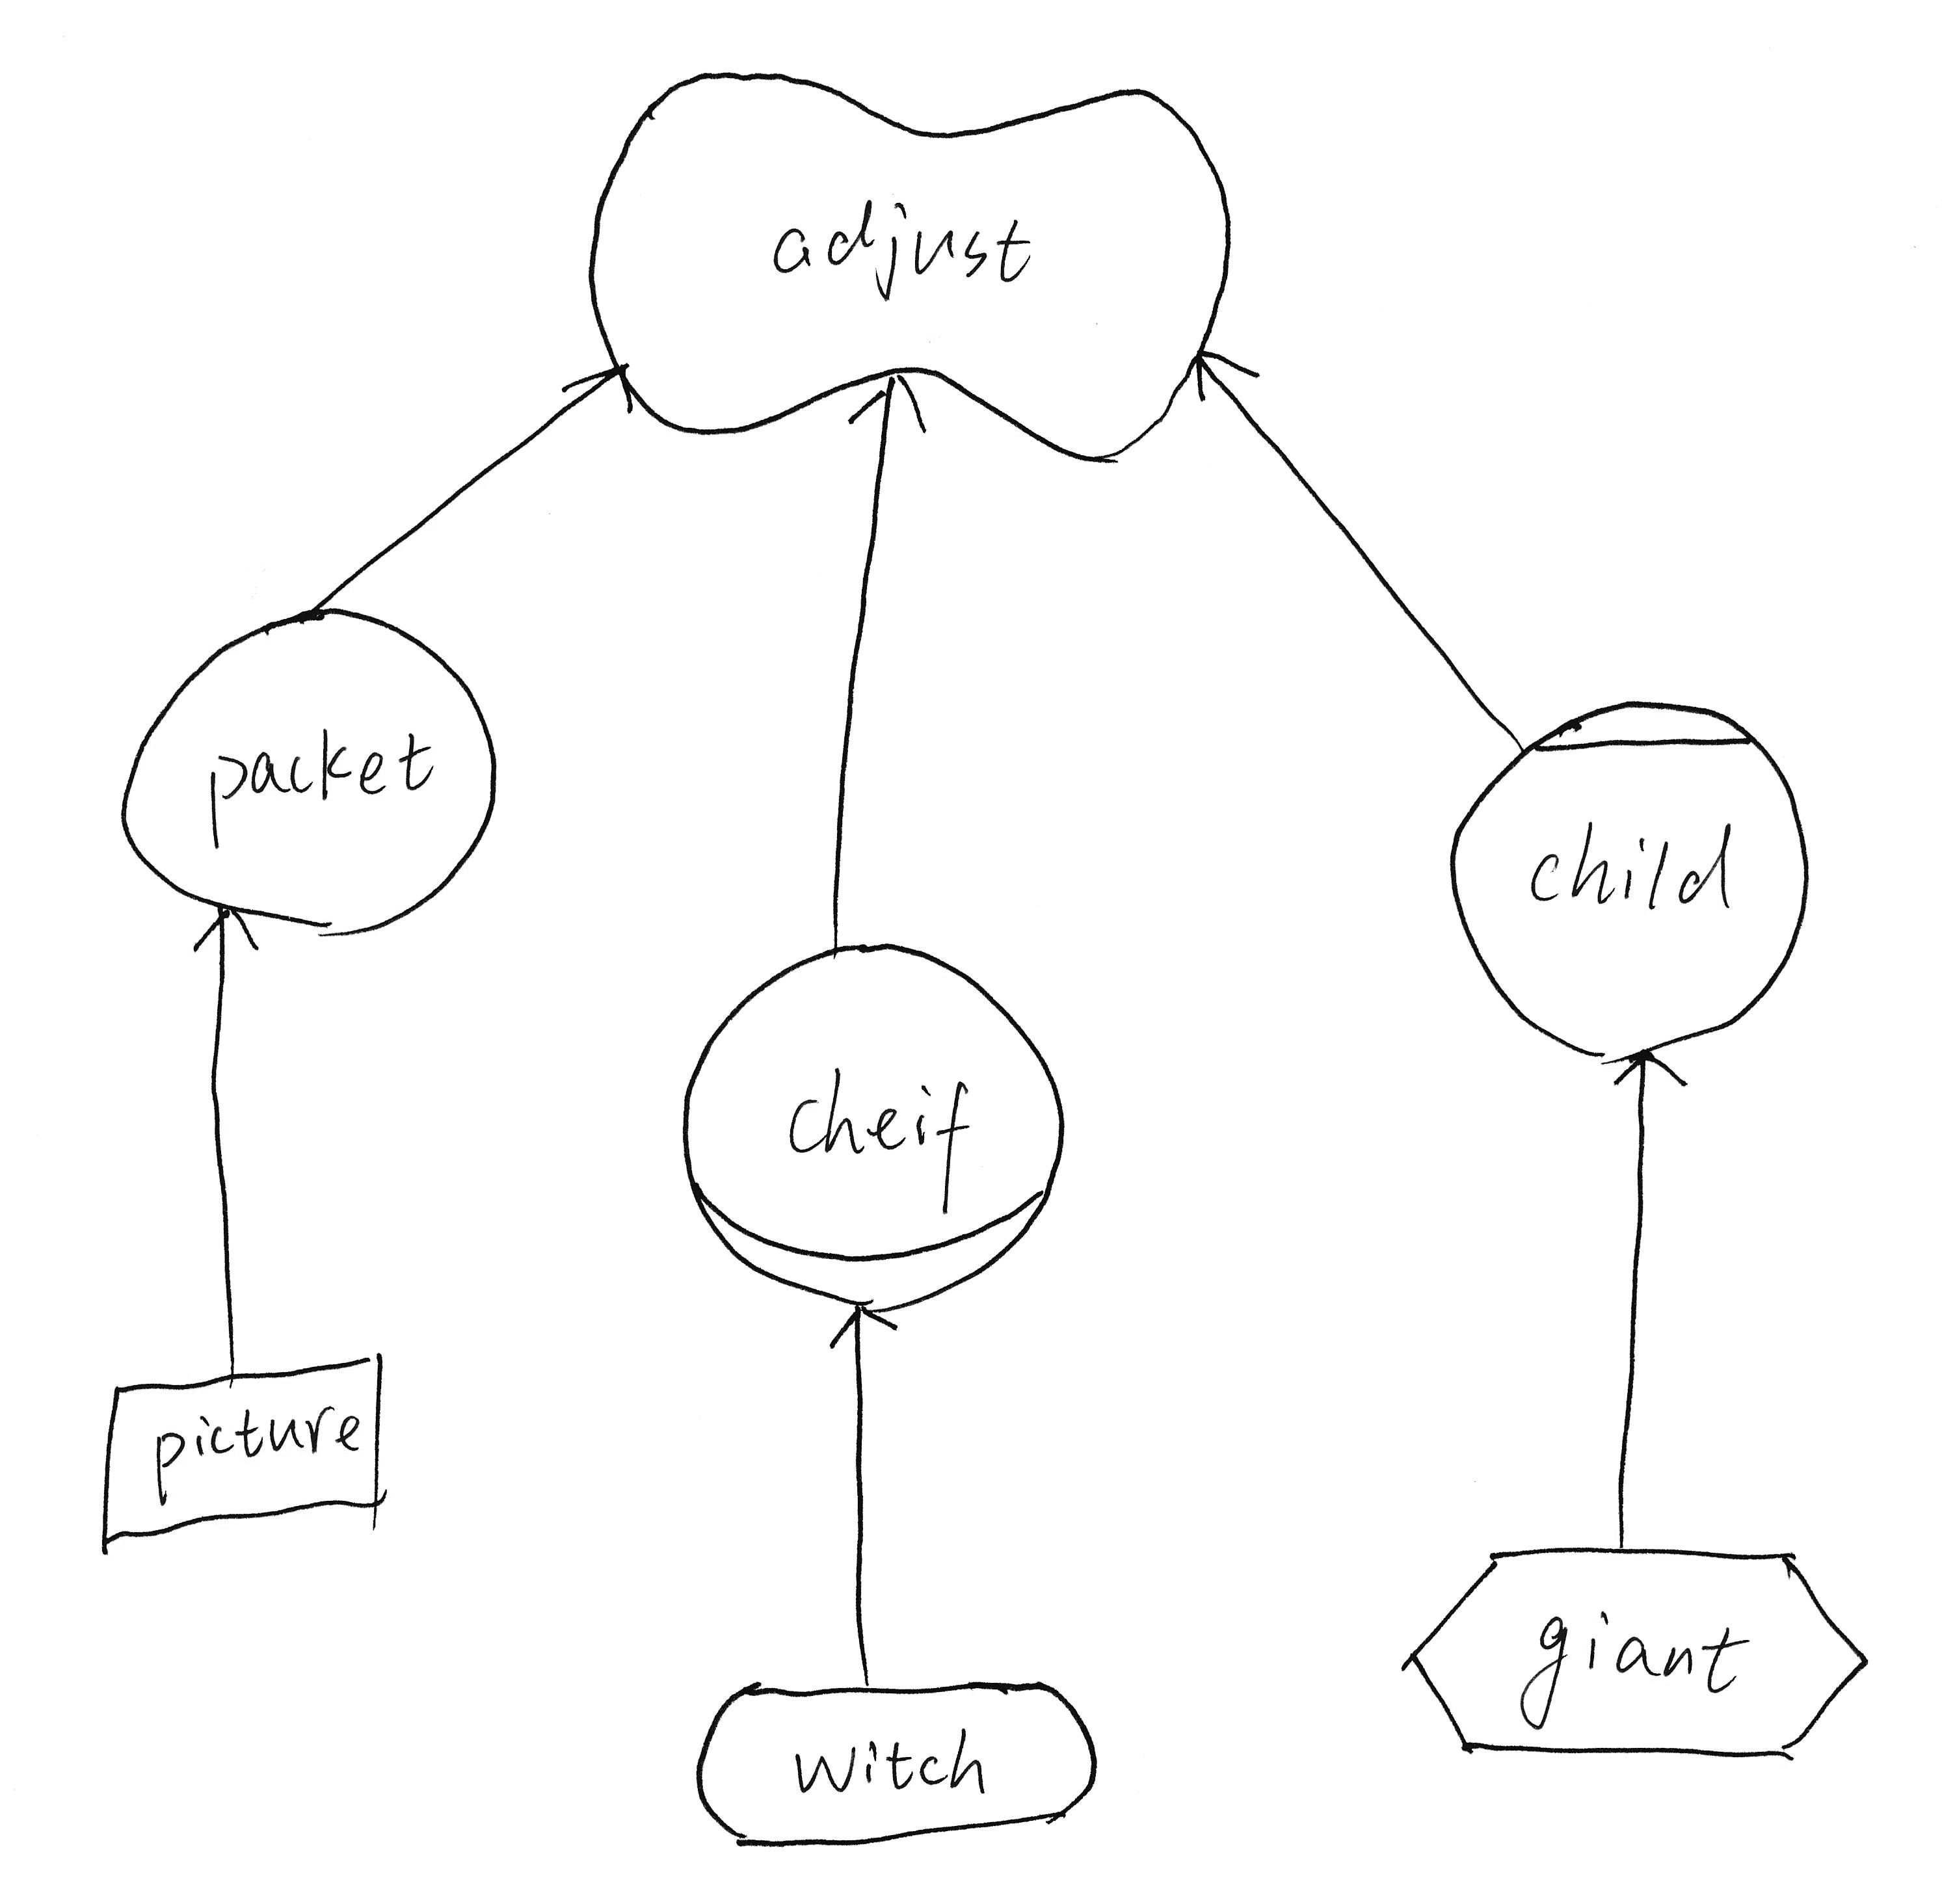actor: (98, 586, 519, 947)
agent: (1433, 678, 1834, 1079)
arrow: (839, 366, 947, 450), (1182, 337, 1281, 420), (178, 898, 272, 976), (551, 354, 642, 434), (1604, 1043, 1698, 1105), (819, 1295, 910, 1358)
goal: (682, 1658, 1117, 1866)
quality: (574, 45, 1250, 488)
resource: (77, 1332, 417, 1571)
role: (661, 929, 1083, 1337)
task: (1386, 1527, 1881, 1789)
